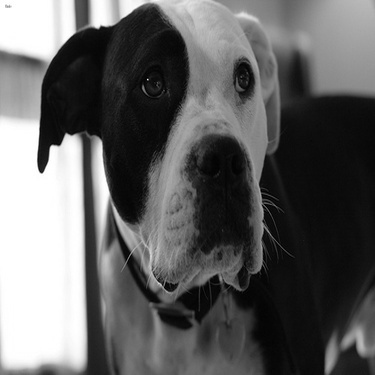dog: (34, 1, 371, 369)
